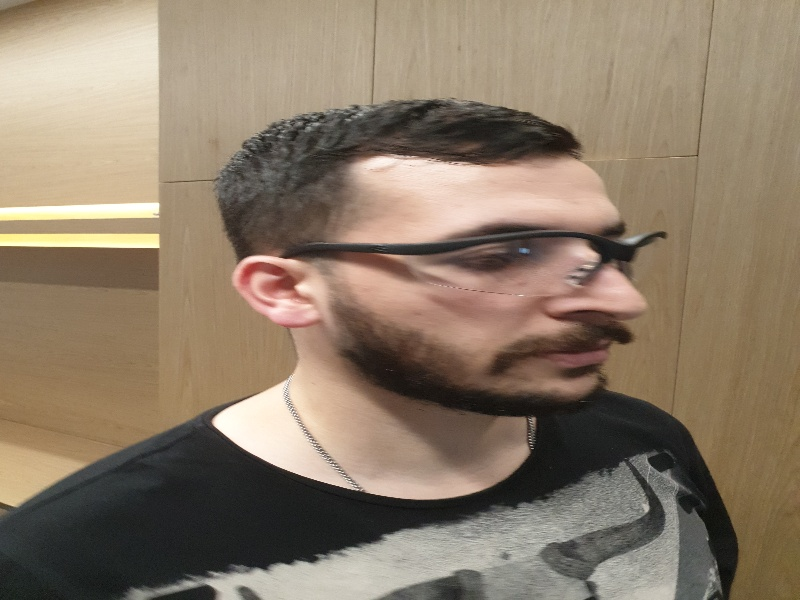Gozluk: (281, 231, 667, 299)
